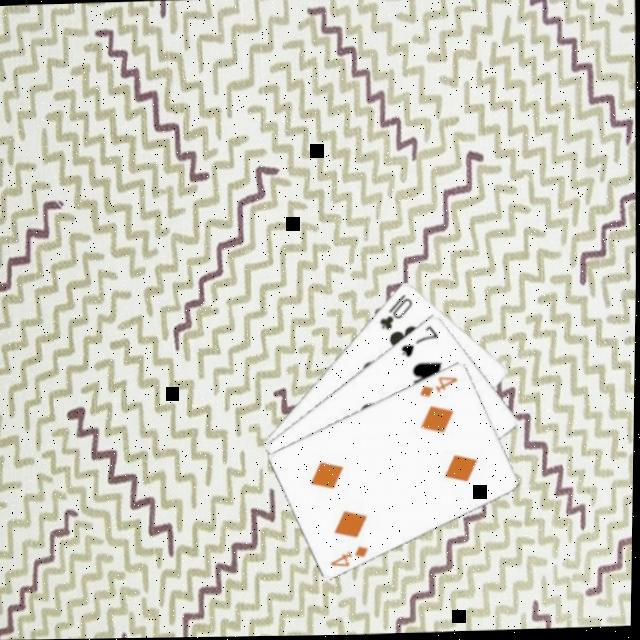10C: (376, 289, 418, 332)
4D: (418, 372, 462, 400), (329, 542, 373, 570)
7S: (398, 321, 443, 361)
